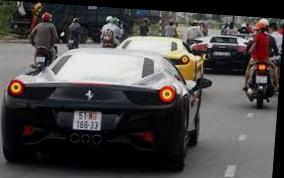License_Plate: (71, 107, 103, 131)
